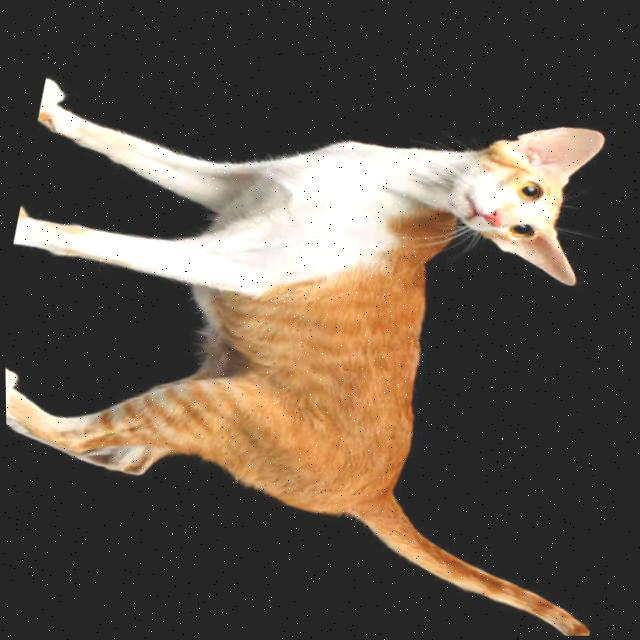Oriental: (0, 14, 640, 640)
